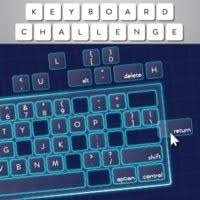keyboard: (0, 100, 175, 200)
